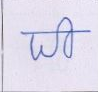i_matra: (59, 15, 75, 59)
